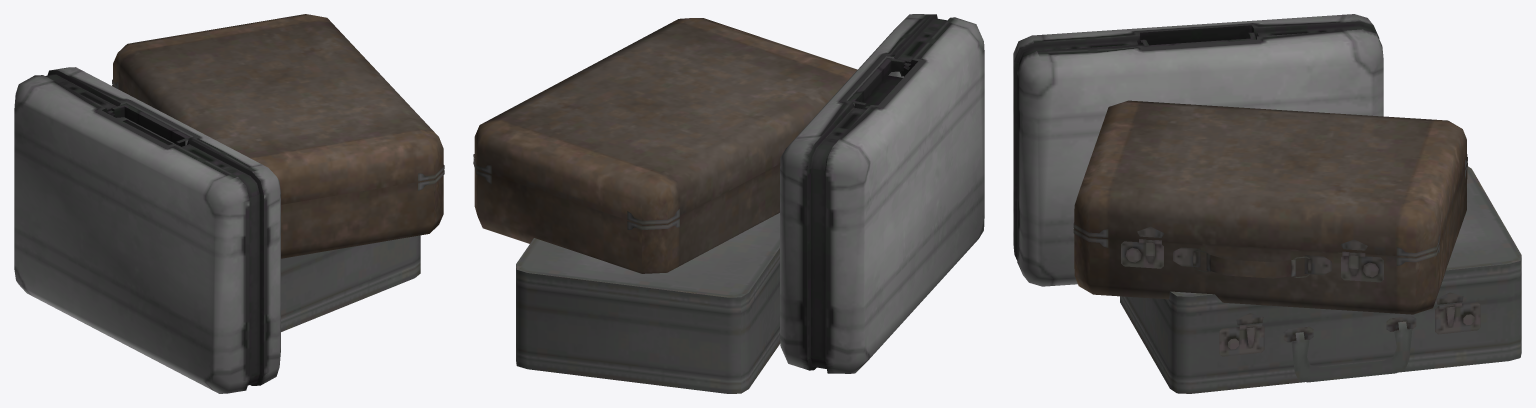
The model's file is ItemSpot.fbx.
3 views of the same model, side by side, from view 1: azimuth 30°, elevation 25°; view 2: azimuth 150°, elevation 25°; view 3: azimuth 270°, elevation 25° (orthographic). The views are drawn at different scales.
Visible parts, largest first — view 1: ItemBox_Suitcase_04, ItemBox_Suitcase_01, ItemBox_Suitcase_02; view 2: ItemBox_Suitcase_01, ItemBox_Suitcase_04, ItemBox_Suitcase_02; view 3: ItemBox_Suitcase_01, ItemBox_Suitcase_04, ItemBox_Suitcase_02.
Boxes of the visible parts, x1,y1,x2,y2 form: ItemBox_Suitcase_04: (14,67,280,393); ItemBox_Suitcase_01: (112,14,444,258); ItemBox_Suitcase_02: (281,235,420,331); ItemBox_Suitcase_01: (473,18,857,273); ItemBox_Suitcase_04: (780,14,984,373); ItemBox_Suitcase_02: (516,213,780,393); ItemBox_Suitcase_01: (1073,100,1467,314); ItemBox_Suitcase_04: (1013,14,1383,286); ItemBox_Suitcase_02: (1120,166,1521,393).
Bounding box in the file's own units: 1.14 × 0.6802 × 1.37.
1 material, 1 textured.
